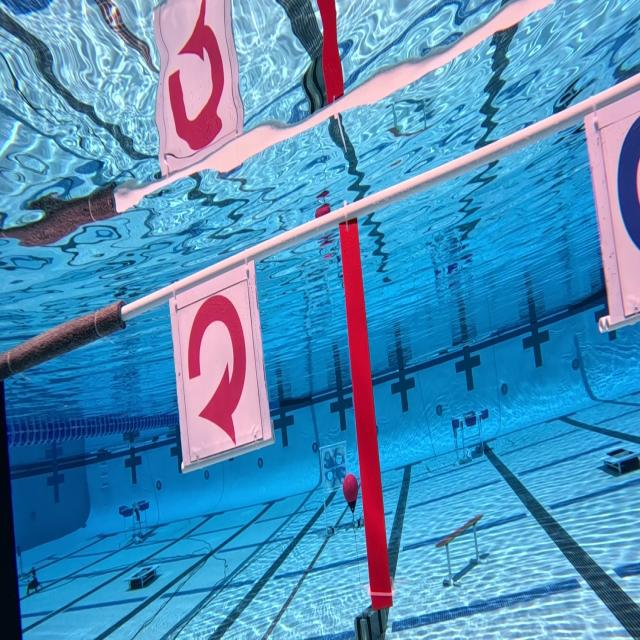red_side: (169, 260, 273, 475)
